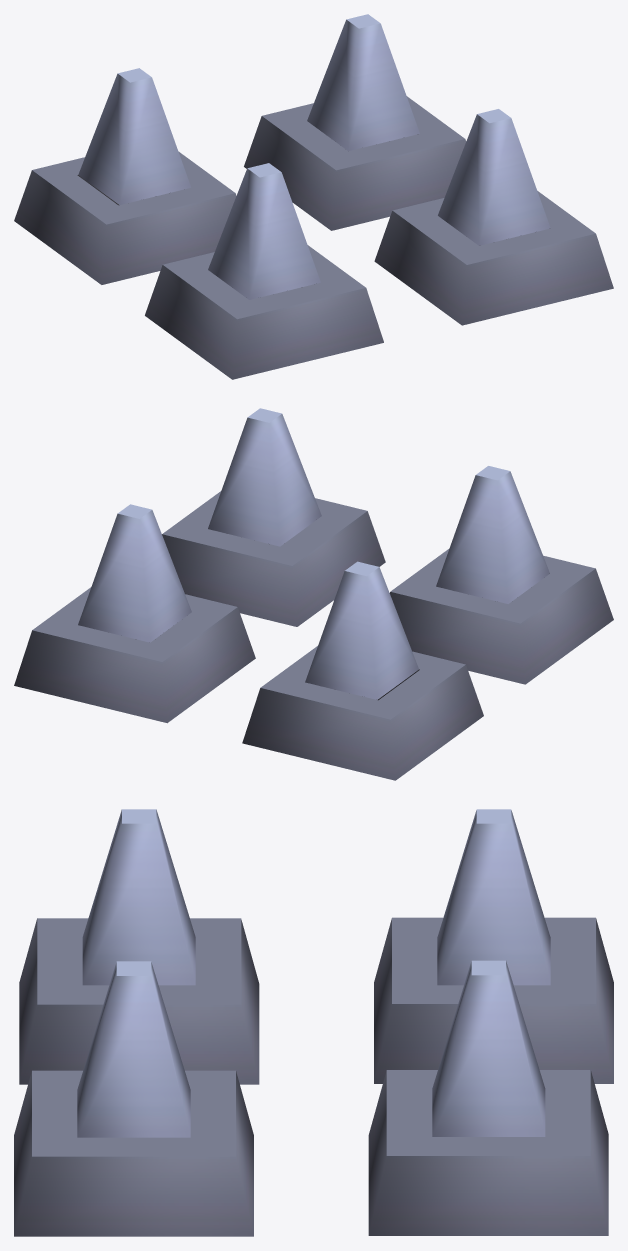
Rendered from spike_trap.glb.
3 renders of one model, top to bottom at view 1: azimuth 30°, elevation 25°; view 2: azimuth 150°, elevation 25°; view 3: azimuth 270°, elevation 25°, orthographic. The views are drawn at different scales.
Visible parts, largest first — view 1: trap, spikes; view 2: trap, spikes; view 3: trap, spikes.
Boxes of the visible parts, x1=… form: trap: x1=14, y1=96, x2=613, y2=379; spikes: x1=78, y1=14, x2=550, y2=299; trap: x1=14, y1=491, x2=613, y2=780; spikes: x1=78, y1=408, x2=549, y2=699; trap: x1=14, y1=917, x2=613, y2=1236; spikes: x1=77, y1=809, x2=550, y2=1137.
Size of the model in its own units: 0.6392 by 0.255 by 0.6375.
1 material, 1 textured.
